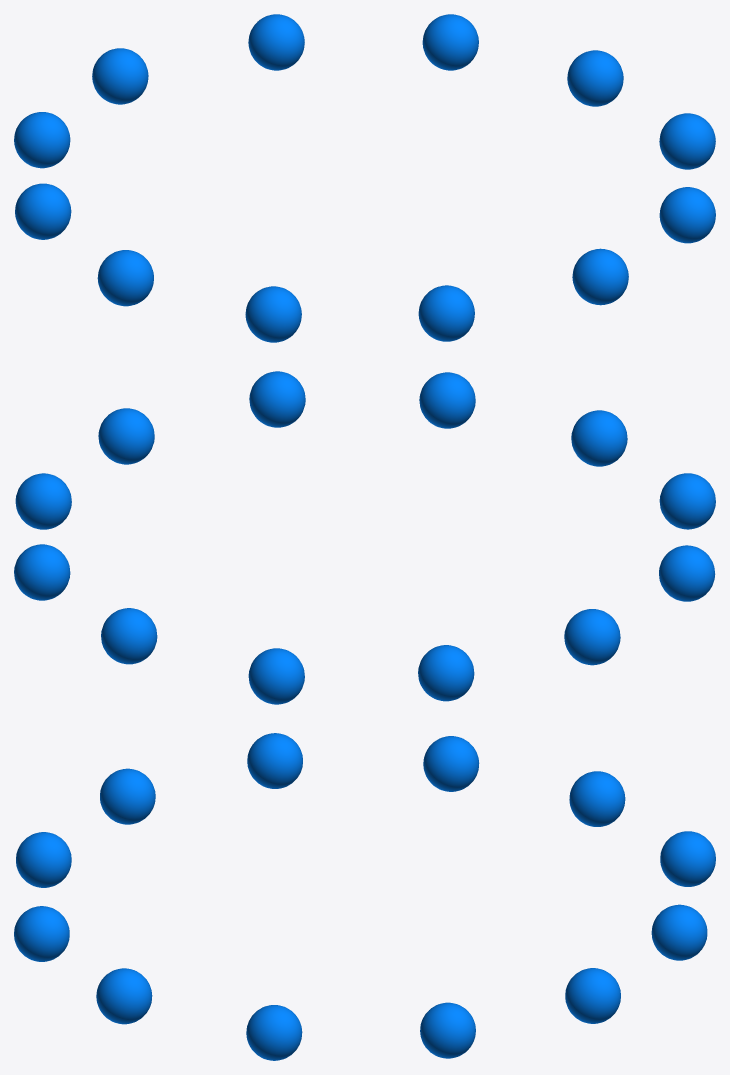
3 renders of one model, top to bottom at view 1: azimuth 30°, elevation 25°; view 2: azimuth 150°, elevation 25°; view 3: azimuth 270°, elevation 25°, orthographic.
Parts seen in each view (by area): view 1: Sphere047; view 2: Sphere047; view 3: Sphere047.
Part boxes in pixels (<box>): Sphere047: <box>14,14,715,342</box>; Sphere047: <box>14,371,715,704</box>; Sphere047: <box>14,733,715,1060</box>.
Size of the model in its own units: 103 by 8.22 by 103.
